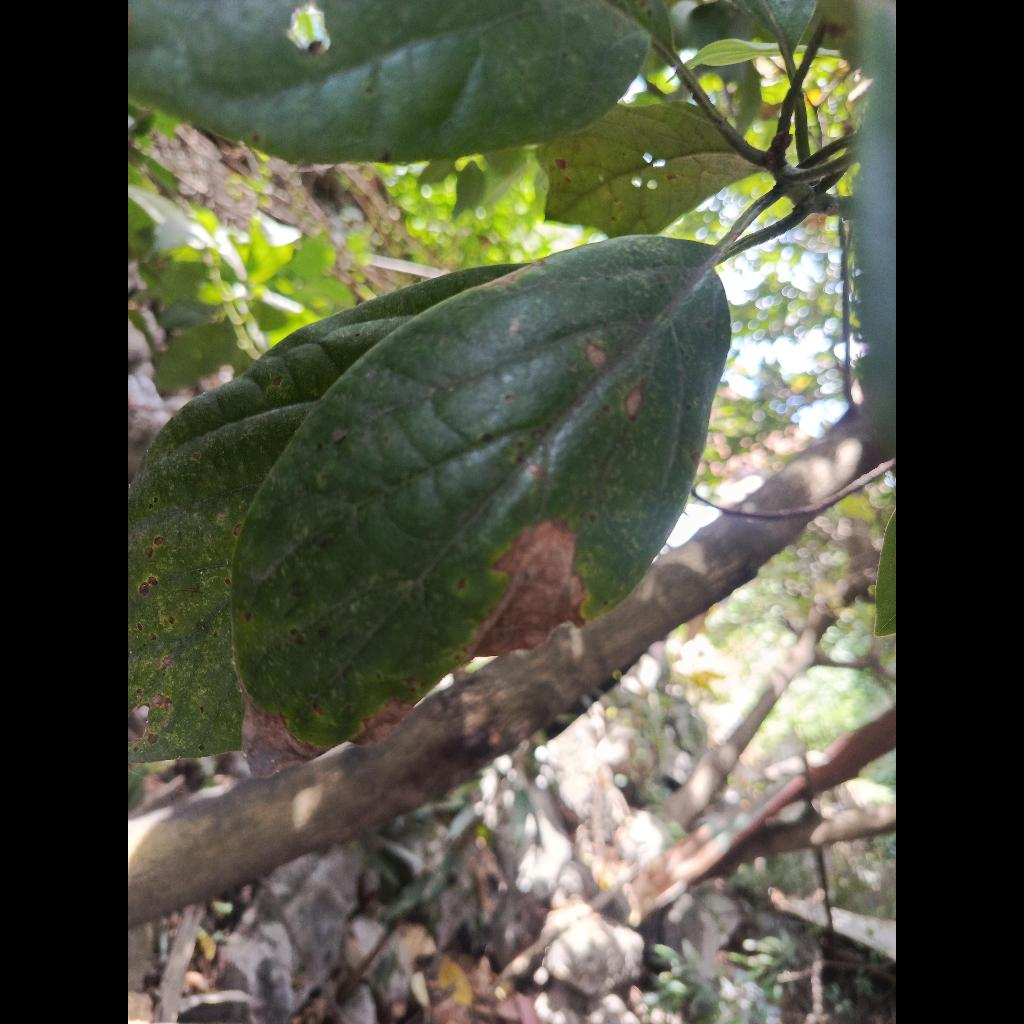Anthracnose: (230, 236, 730, 746)
